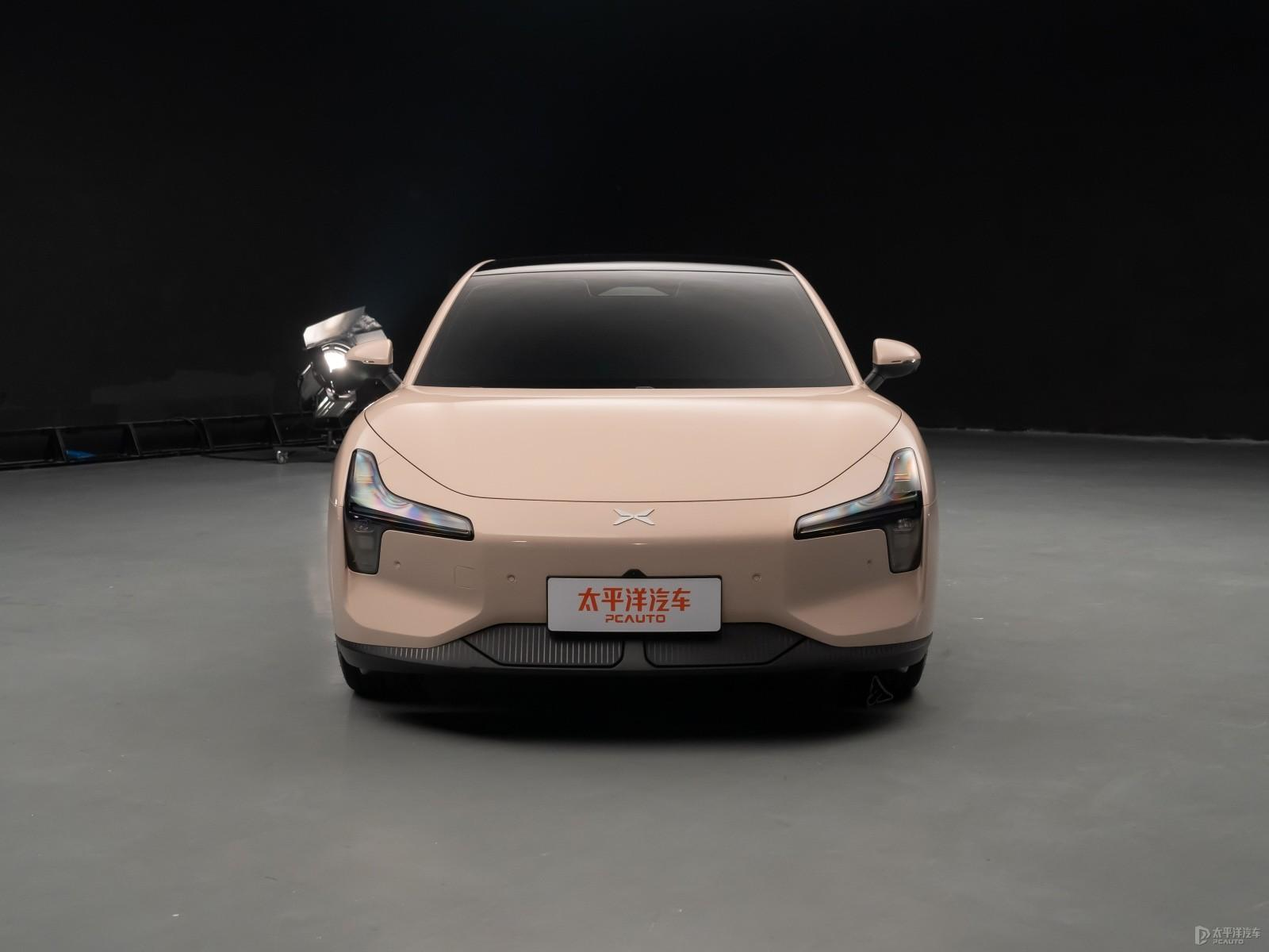XPeng Motors: (610, 509, 655, 525)
